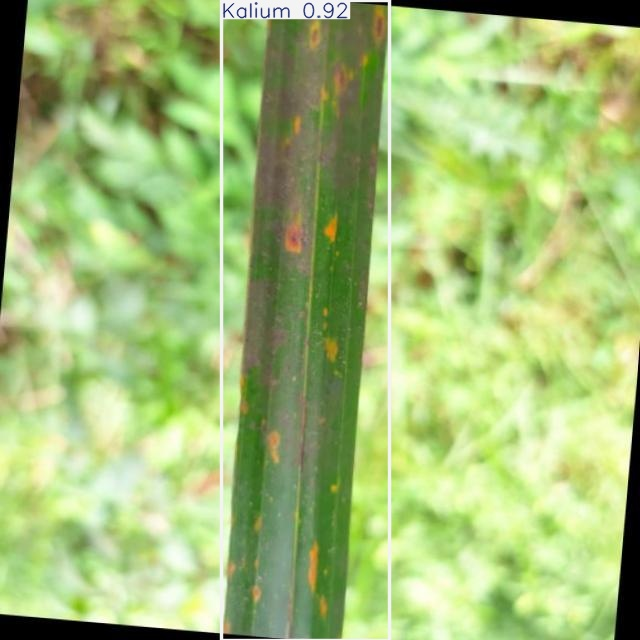Kalium: (221, 1, 390, 640)
